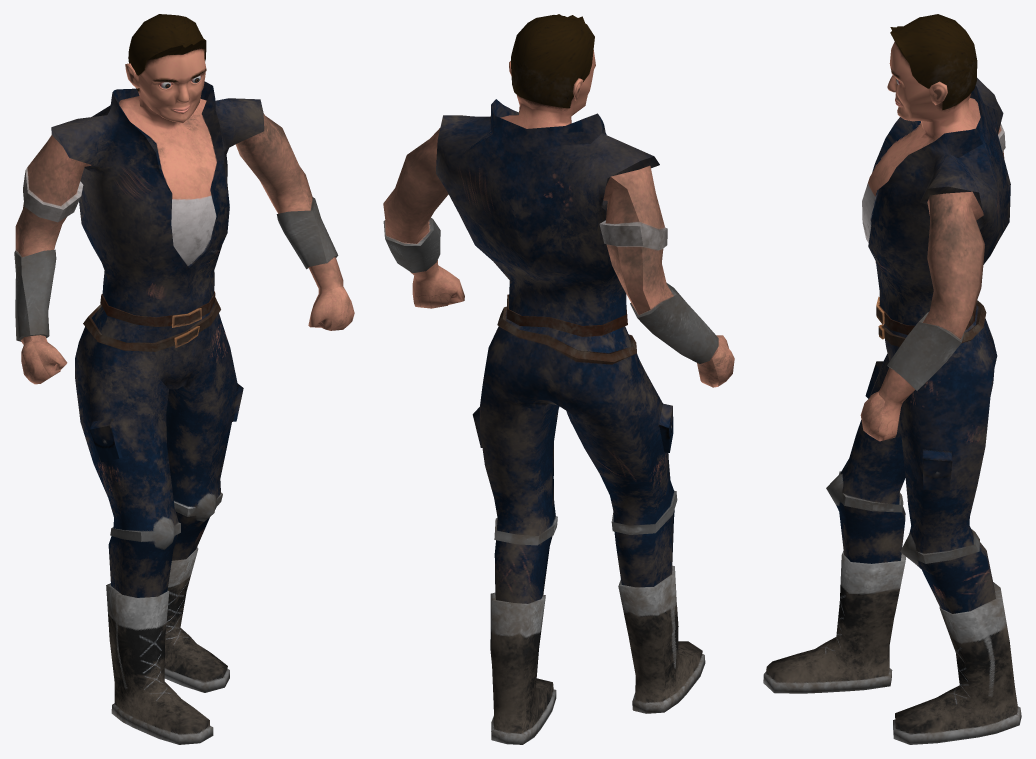
Rendered from Anim_interruptor_jugador.0019.obj.
The picture shows the model from 3 angles, left to right: view 1: azimuth 30°, elevation 25°; view 2: azimuth 150°, elevation 25°; view 3: azimuth 270°, elevation 25°; orthographic projection. The views are drawn at different scales.
Parts seen in each view (by area): view 1: polySurface1; view 2: polySurface1; view 3: polySurface1.
Boxes of the visible parts, <box> form: polySurface1: <box>14,14,354,744</box>; polySurface1: <box>383,14,734,744</box>; polySurface1: <box>763,14,1021,744</box>.
Size of the model in its own units: 4.69 by 9.54 by 3.19.
